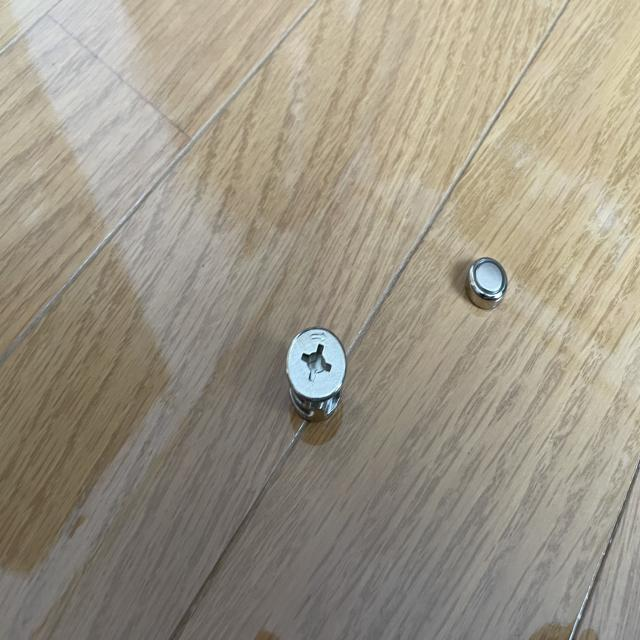COIN: (466, 257, 506, 311)
